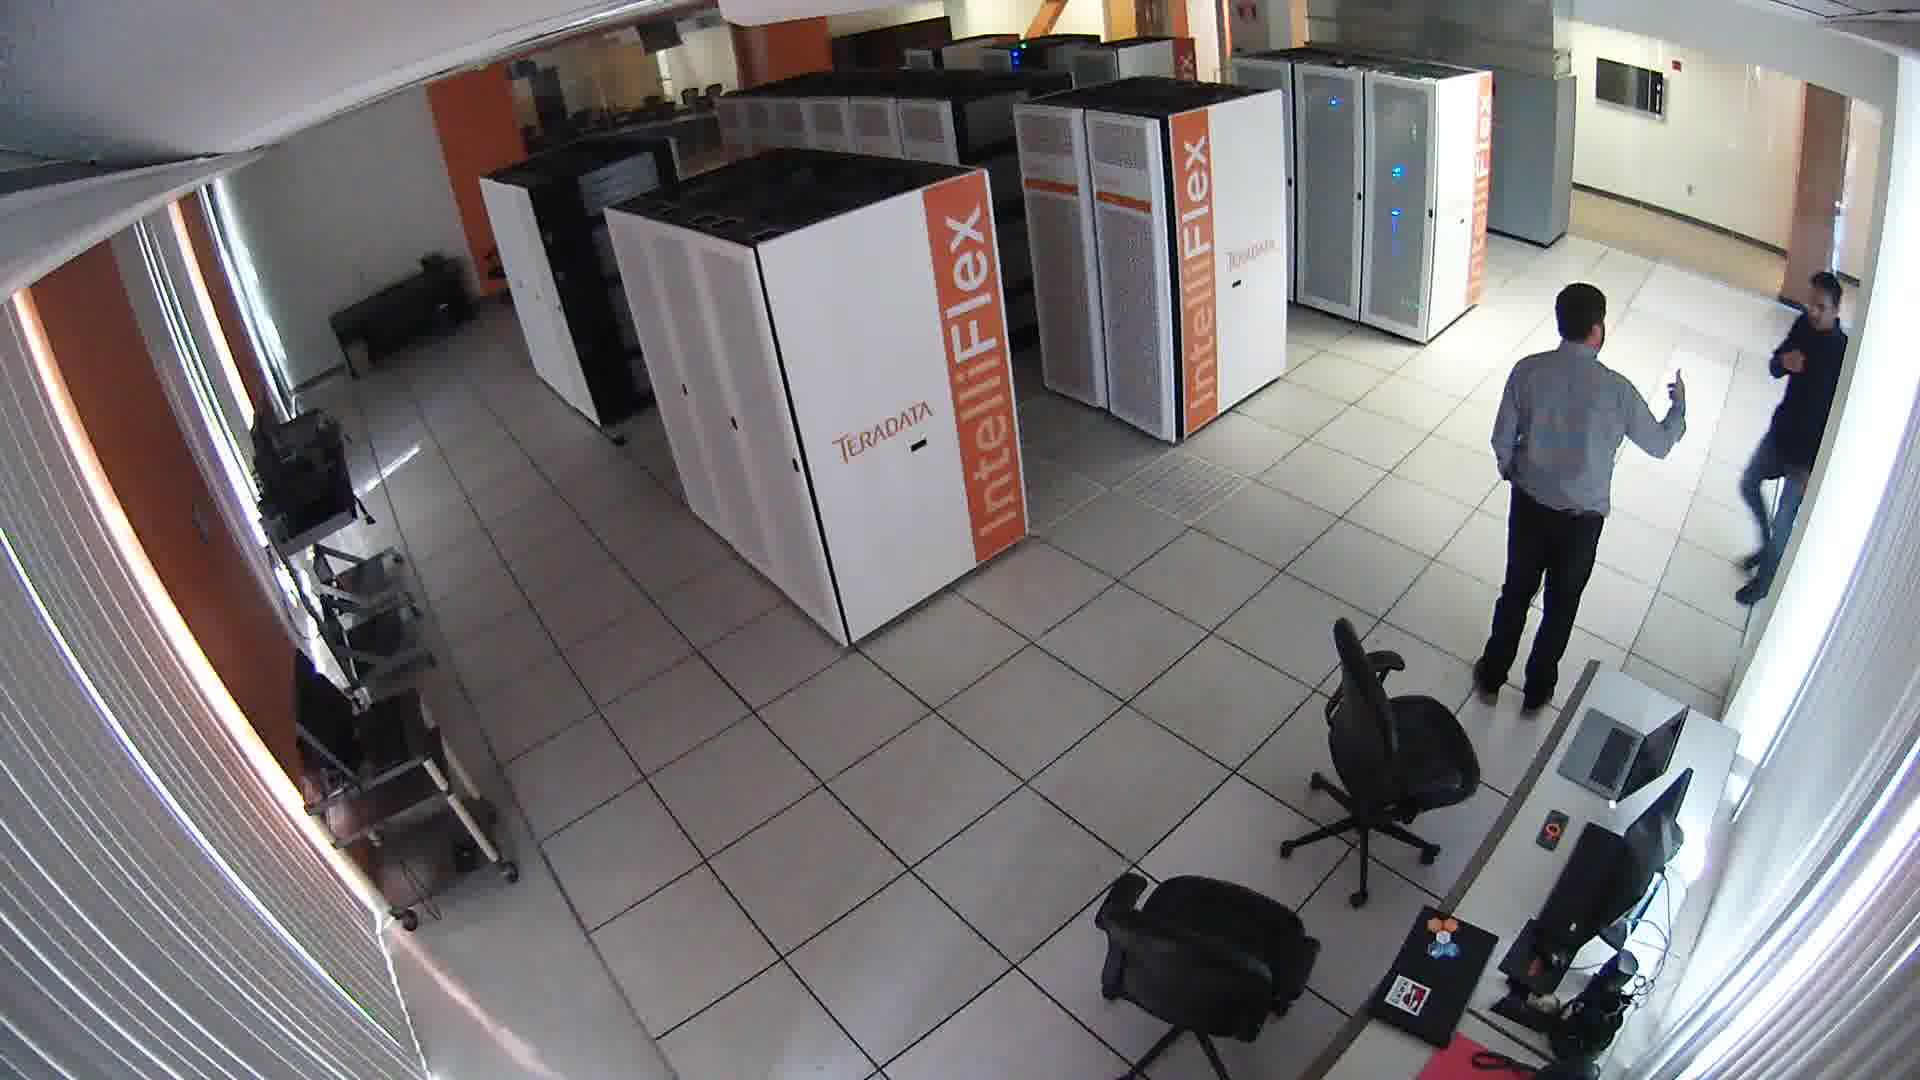person: (1471, 270, 1694, 709), (1732, 256, 1854, 644)
